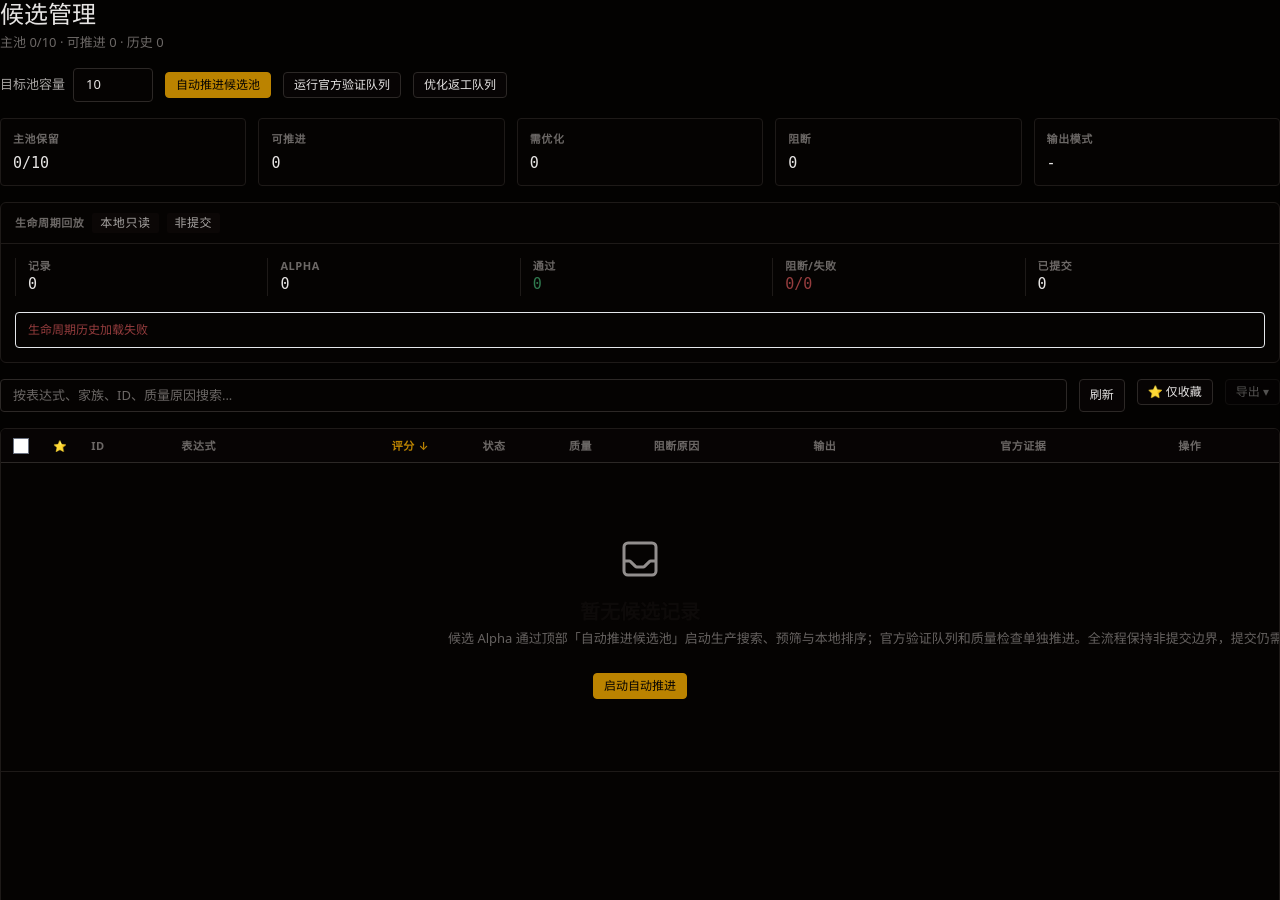
Test: CandidateTable › requests cancellation immediately when the server reports SSE stream timeout
Click the button "自动推进候选池".
click(218, 85)  # box [165,72,271,98]
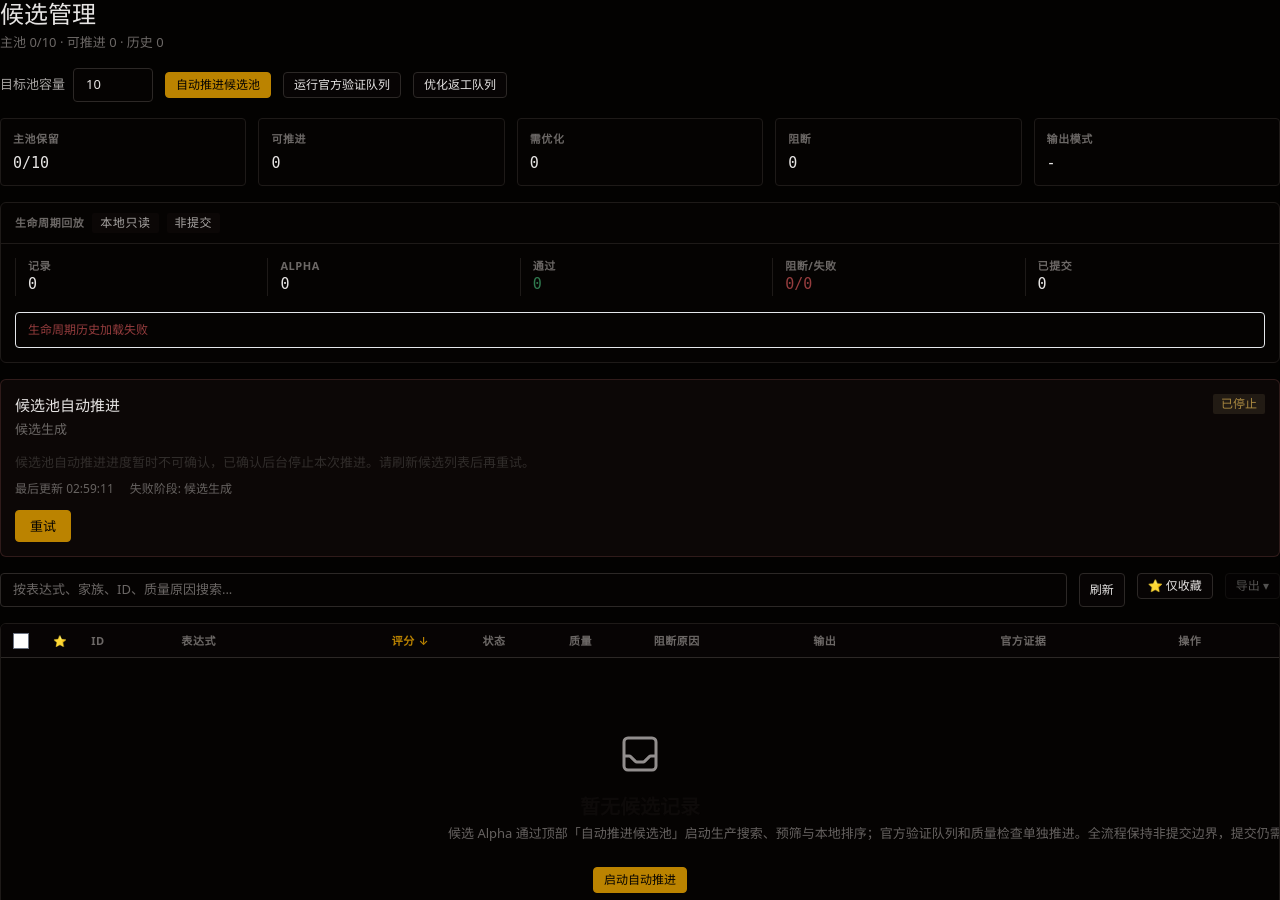
Check: the text "候选池自动推进进度暂时不可确认，已确认后台停止本次推进。请刷新候选列表后再重试。" is shown, box [15,452,535,472]
